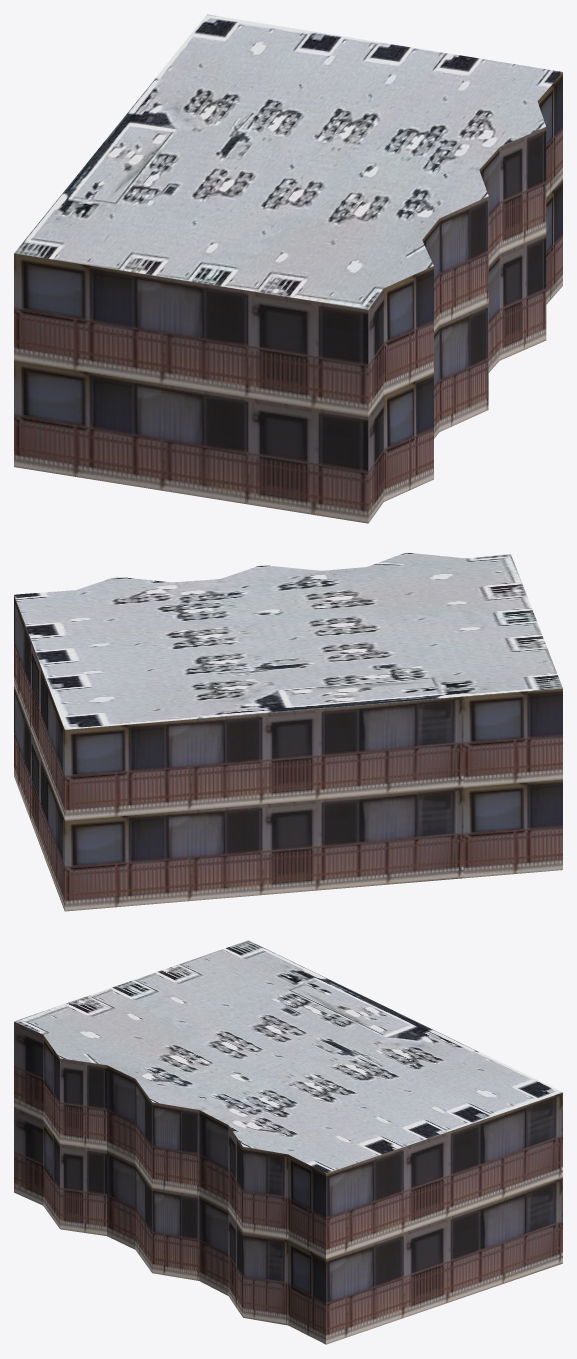
Rendered from ResTex__1635.fbx.
The picture shows the model from 3 angles, top to bottom: view 1: azimuth 30°, elevation 25°; view 2: azimuth 150°, elevation 25°; view 3: azimuth 270°, elevation 25°; orthographic projection. The views are drawn at different scales.
Parts seen in each view (by area): view 1: CityEngineMaterial_6_m, CityEngineMaterial_8_m; view 2: CityEngineMaterial_6_m, CityEngineMaterial_8_m; view 3: CityEngineMaterial_6_m, CityEngineMaterial_8_m.
Part boxes in pixels (x1,y1,x2,y2): CityEngineMaterial_6_m: [14, 72, 562, 523]; CityEngineMaterial_8_m: [14, 14, 562, 309]; CityEngineMaterial_6_m: [14, 595, 562, 911]; CityEngineMaterial_8_m: [14, 552, 562, 729]; CityEngineMaterial_6_m: [14, 1021, 562, 1344]; CityEngineMaterial_8_m: [14, 940, 562, 1173].
Size of the model in its own units: 17.55 by 6 by 17.45.
Materials: 2 (2 with a texture image).
